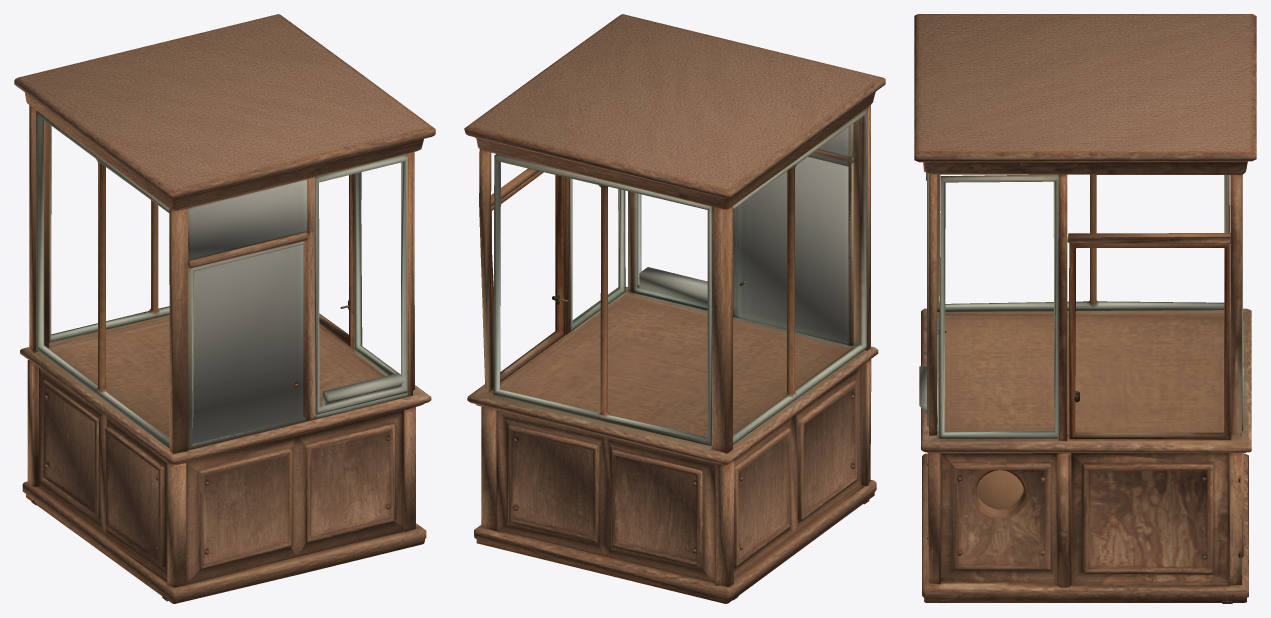
The picture shows the model from 3 angles, left to right: view 1: azimuth 30°, elevation 25°; view 2: azimuth 150°, elevation 25°; view 3: azimuth 270°, elevation 25°; orthographic projection. The views are drawn at different scales.
Parts seen in each view (by area): view 1: tripo_node_732ae5ae-4ad6-491f-ab2e-97ed1fb6b082; view 2: tripo_node_732ae5ae-4ad6-491f-ab2e-97ed1fb6b082; view 3: tripo_node_732ae5ae-4ad6-491f-ab2e-97ed1fb6b082.
Boxes of the visible parts, bbox=[...] form: tripo_node_732ae5ae-4ad6-491f-ab2e-97ed1fb6b082: bbox=[14, 14, 435, 603]; tripo_node_732ae5ae-4ad6-491f-ab2e-97ed1fb6b082: bbox=[464, 14, 885, 603]; tripo_node_732ae5ae-4ad6-491f-ab2e-97ed1fb6b082: bbox=[914, 14, 1256, 603].
Size of the model in its own units: 0.666 by 0.998 by 0.6816.
1 material, 1 textured.
